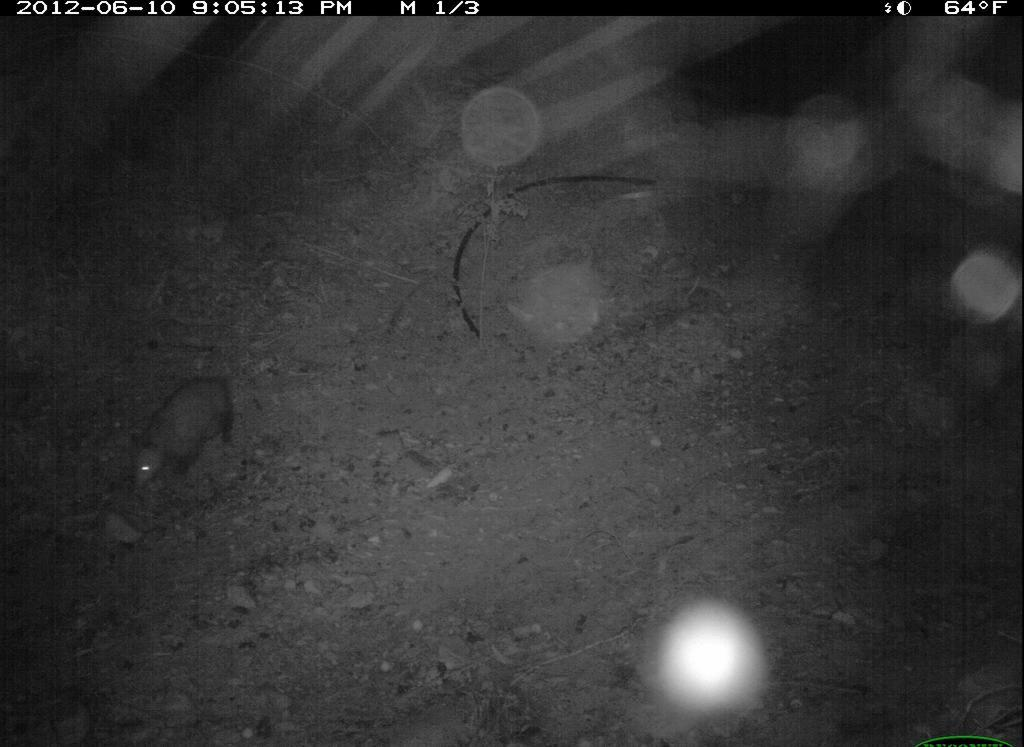opossum: (114, 368, 246, 506)
